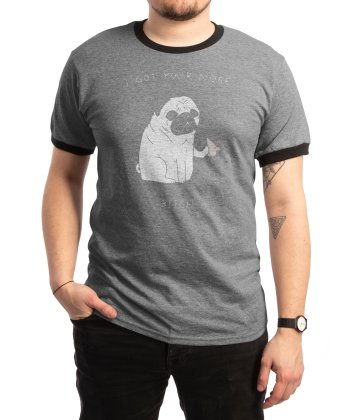design: (119, 69, 231, 212)
